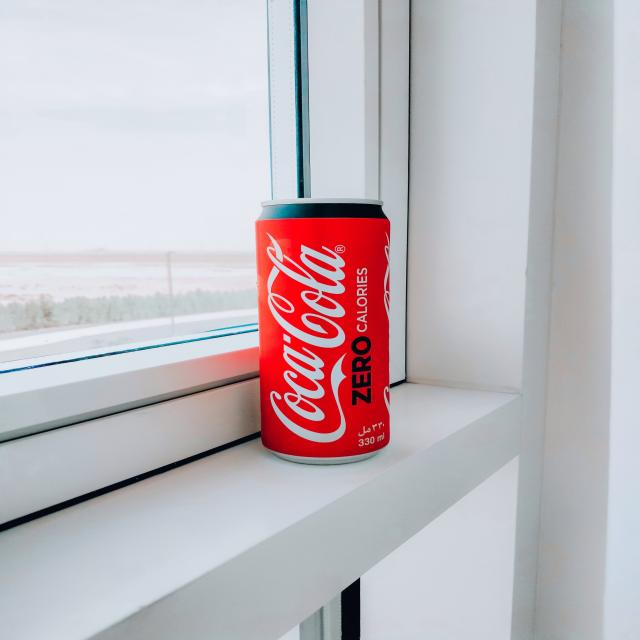can: (254, 198, 392, 466)
